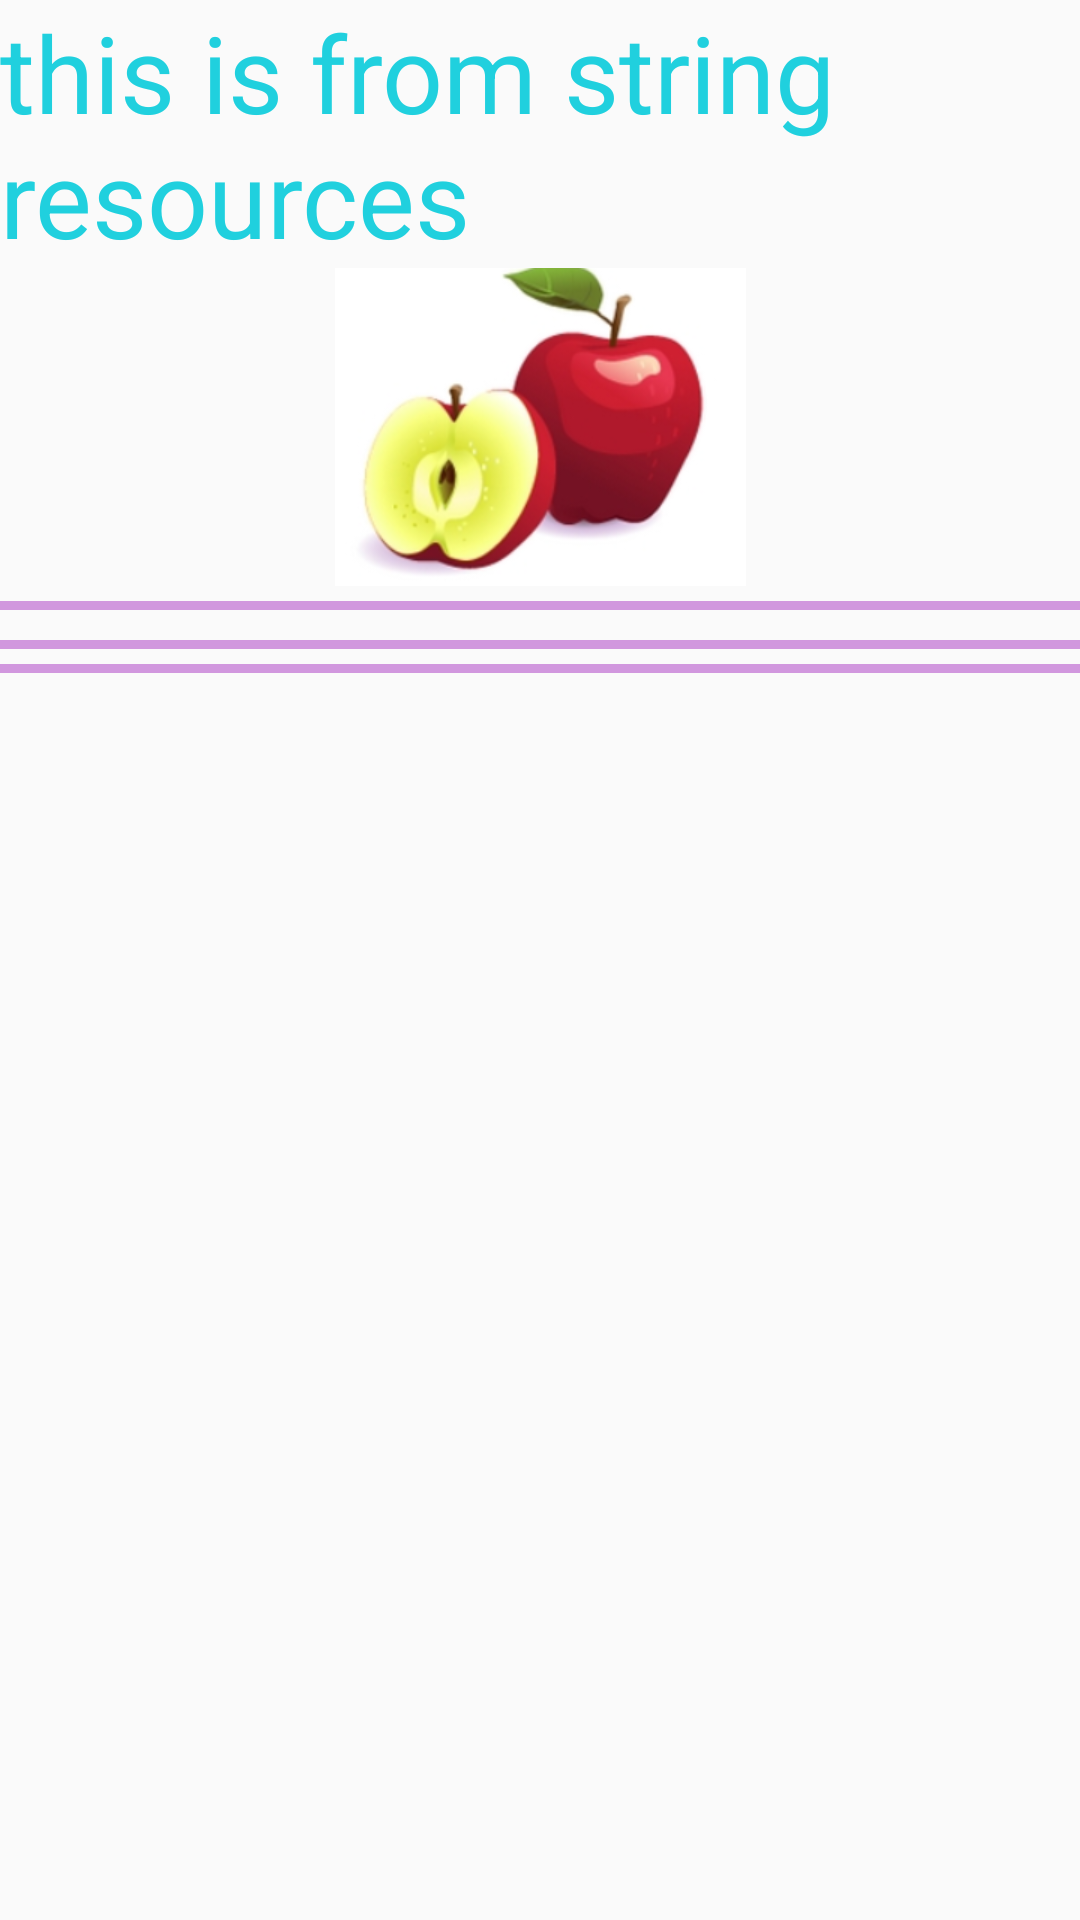

Icon click points for this 1080 x 1920 phone screenshot, format point (x, y):
apple pic: point (533, 420)
